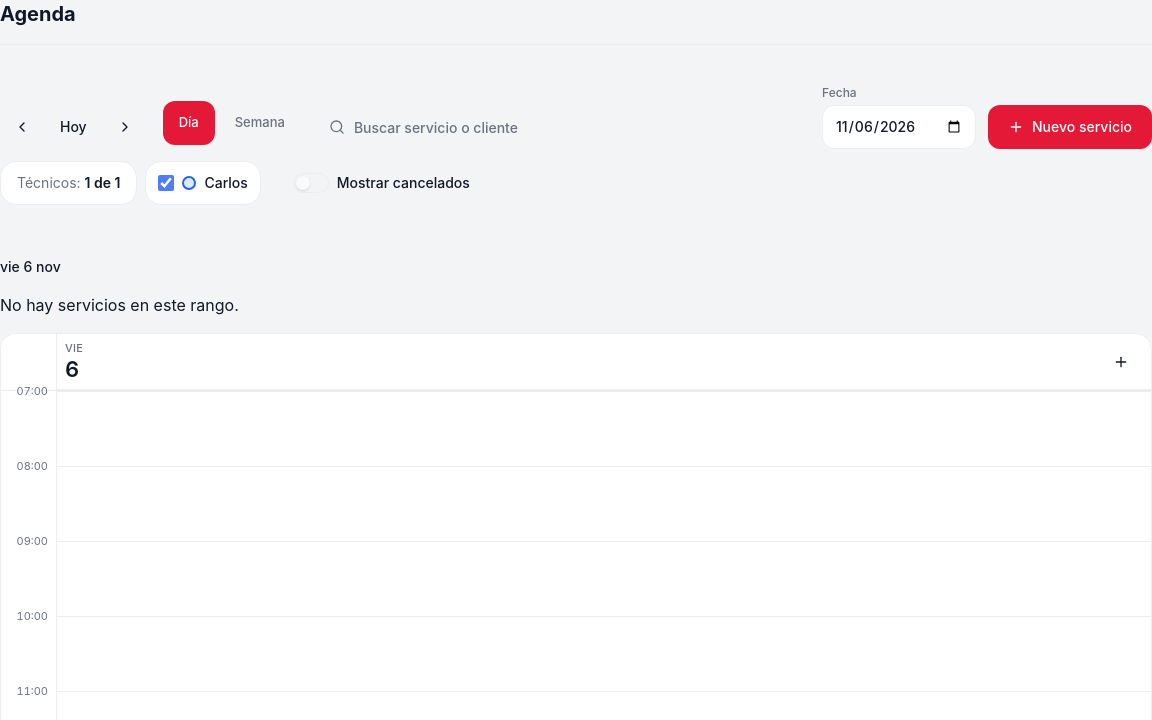
Test: AgendaPage: búsqueda global › elegir un servicio lleva la agenda a su día con la ficha abierta
Type "ana" into the dropdown labelled "Buscar servicio o cliente". click: (563, 127)
box: [317,105,810,149]
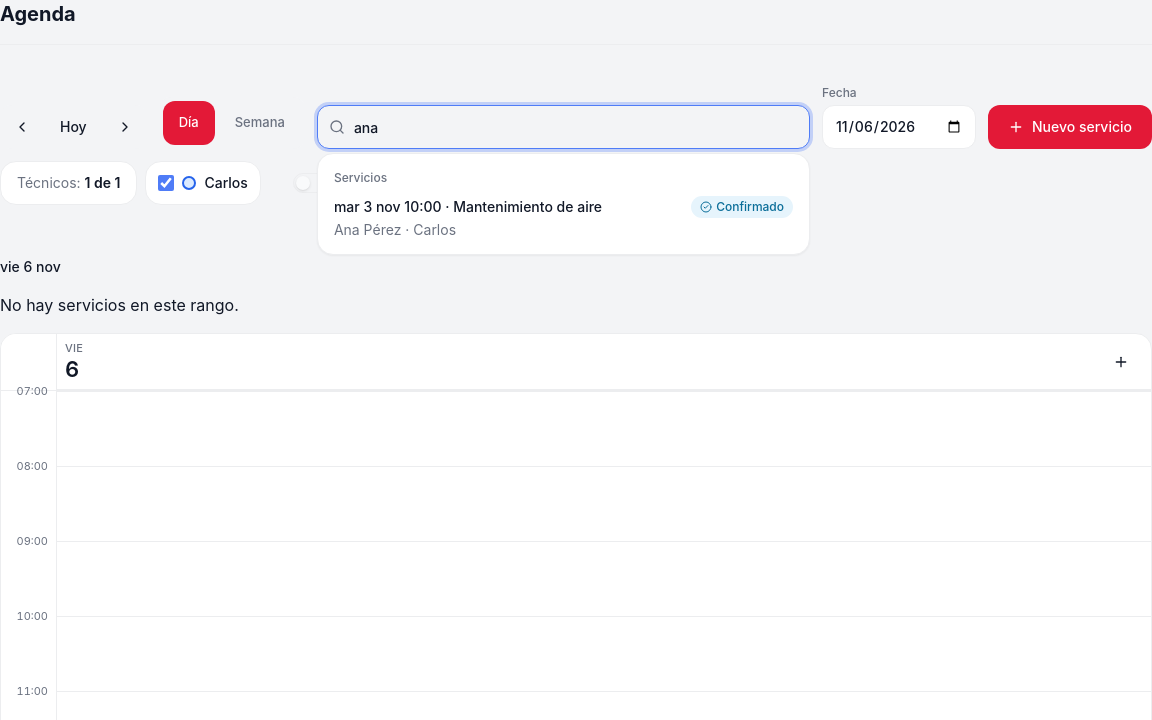
Click the option "Ana Pérez". click: (563, 218)
box: [326,190,801,246]
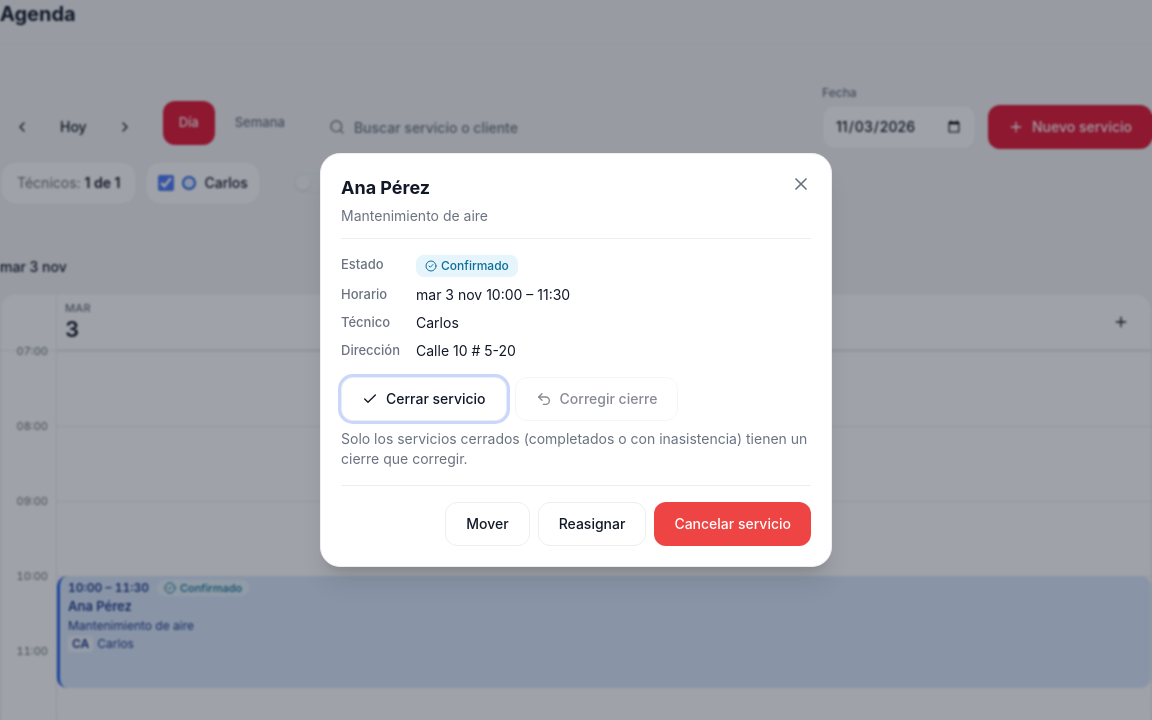
Expected: the dialog "Ana Pérez" is shown, [320,153,832,567]
Expected: the date field labelled "Fecha" holds "2026-11-03", [822,105,976,149]
